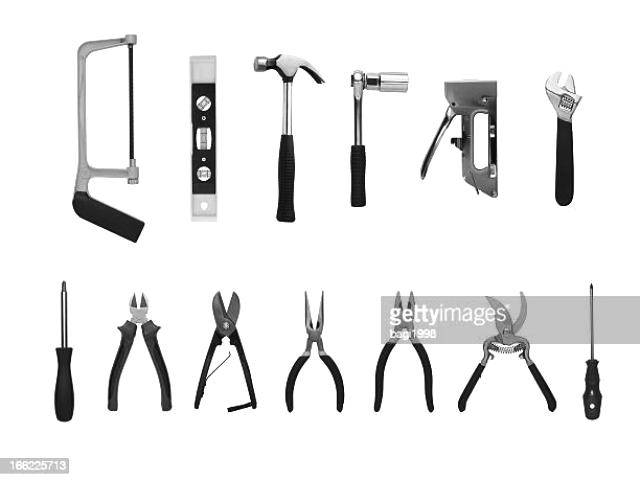Adjustable spanner: (545, 71, 581, 206)
Backsaw: (72, 34, 144, 242)
Cutting pliers: (108, 292, 171, 411)
Hammer: (254, 54, 325, 222)
Needle-nose pliers: (286, 291, 346, 411)
Pliers: (374, 288, 436, 412)
Ratchet: (351, 70, 380, 207)
Screwdriver: (582, 284, 602, 419), (55, 281, 73, 421)
